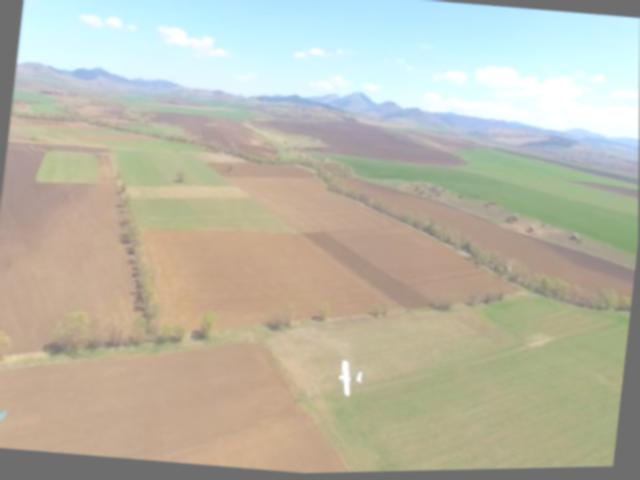uav: (331, 353, 371, 406)
